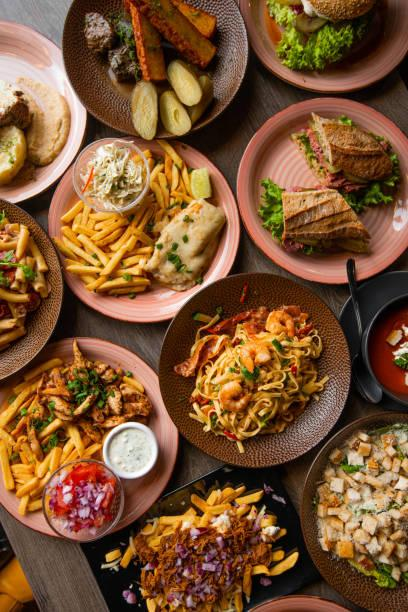Braised Crucian Carp: (157, 275, 351, 467), (4, 336, 179, 539), (47, 135, 236, 315), (235, 96, 404, 280), (89, 476, 302, 608), (61, 2, 245, 139), (300, 408, 408, 612), (240, 0, 405, 93)
